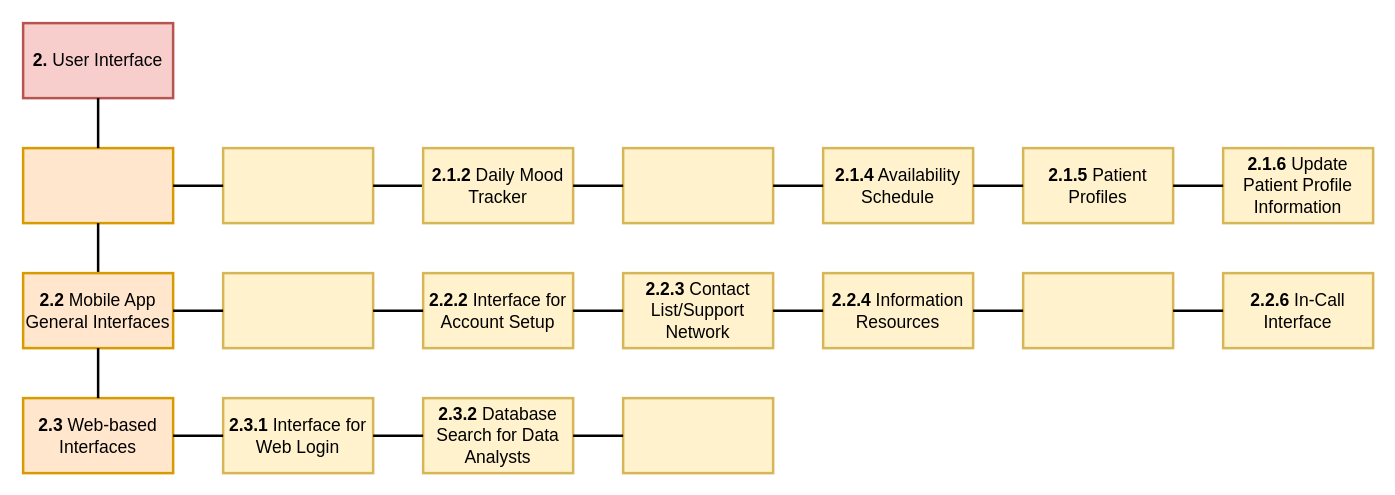
The diagram is 1395 pixels wide and 495 high, and some of its shapes have lost their labels. Here are the shapes that lost their labels. From the top down, the centre of each, then its label:
At (97,185): "2.1 Mobile App User-specific Interfaces".
At (297,185): "2.1.1 User Profiles".
At (697,185): "2.1.3 Behavioral Health Service Finder".
At (297,310): "2.2.1 Interface for Login".
At (1097,310): "2.2.5 Customer Support Resources".
At (697,435): "2.3.3 General Evaluation Model Updates".
